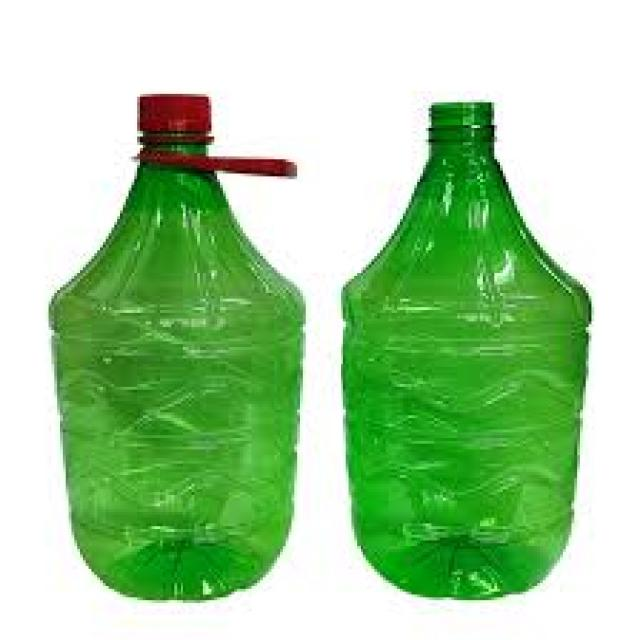Vidrio: (50, 97, 299, 596), (346, 100, 592, 582)
